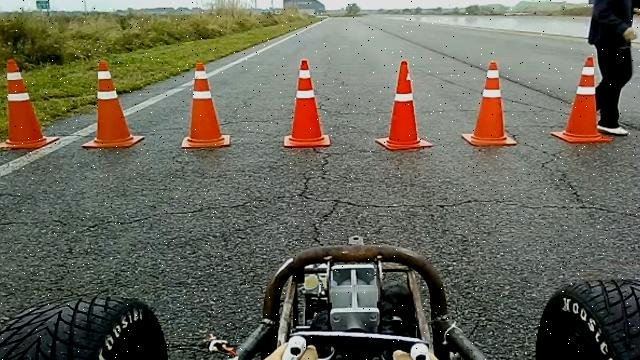red cone: (550, 55, 614, 144), (81, 59, 144, 149), (0, 57, 60, 150), (374, 59, 433, 151), (459, 60, 516, 147), (180, 60, 230, 149), (283, 58, 331, 148)
